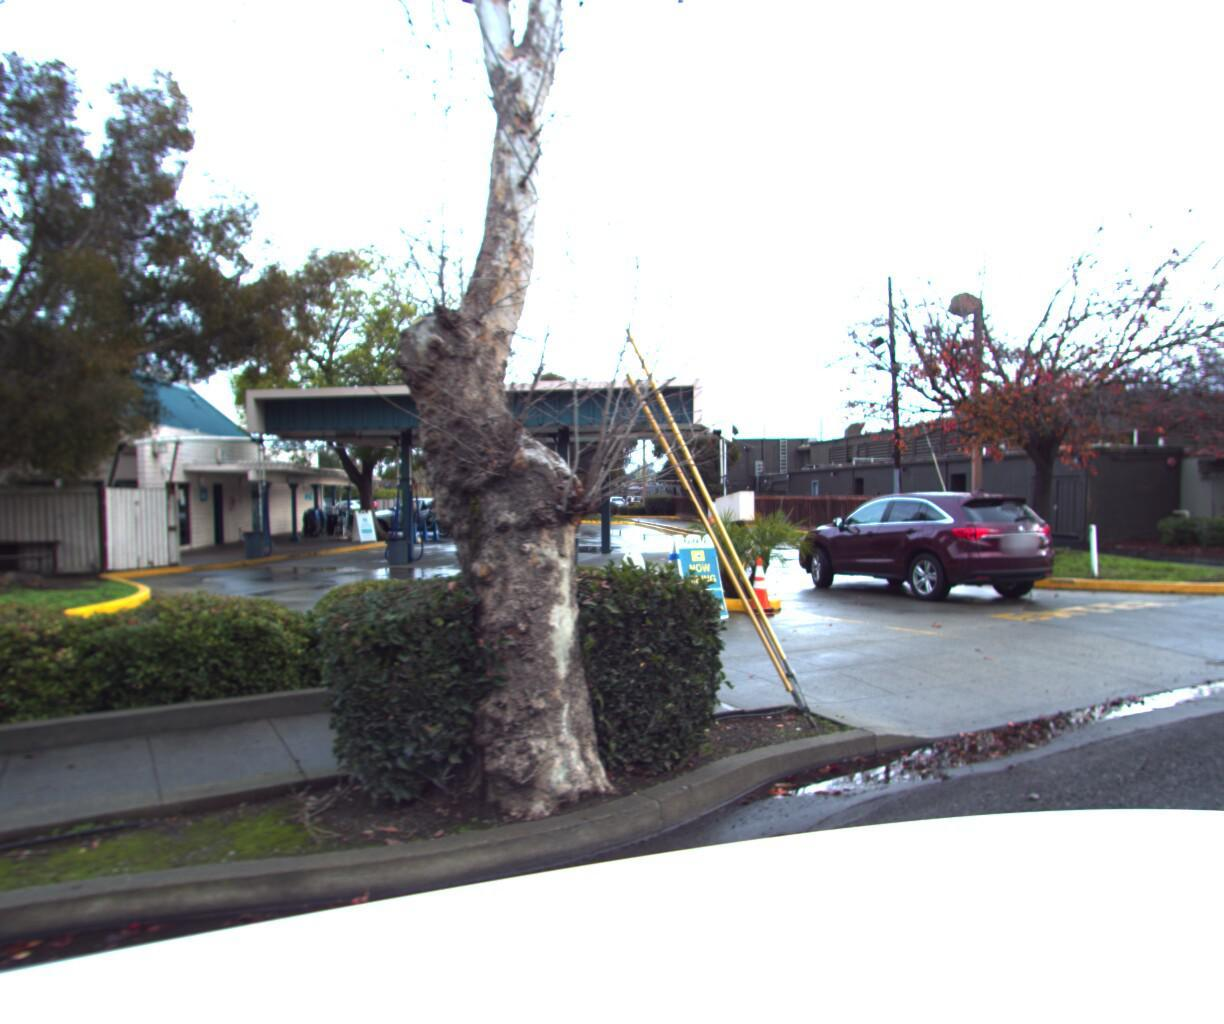car: (791, 489, 1068, 608), (354, 498, 470, 541)
